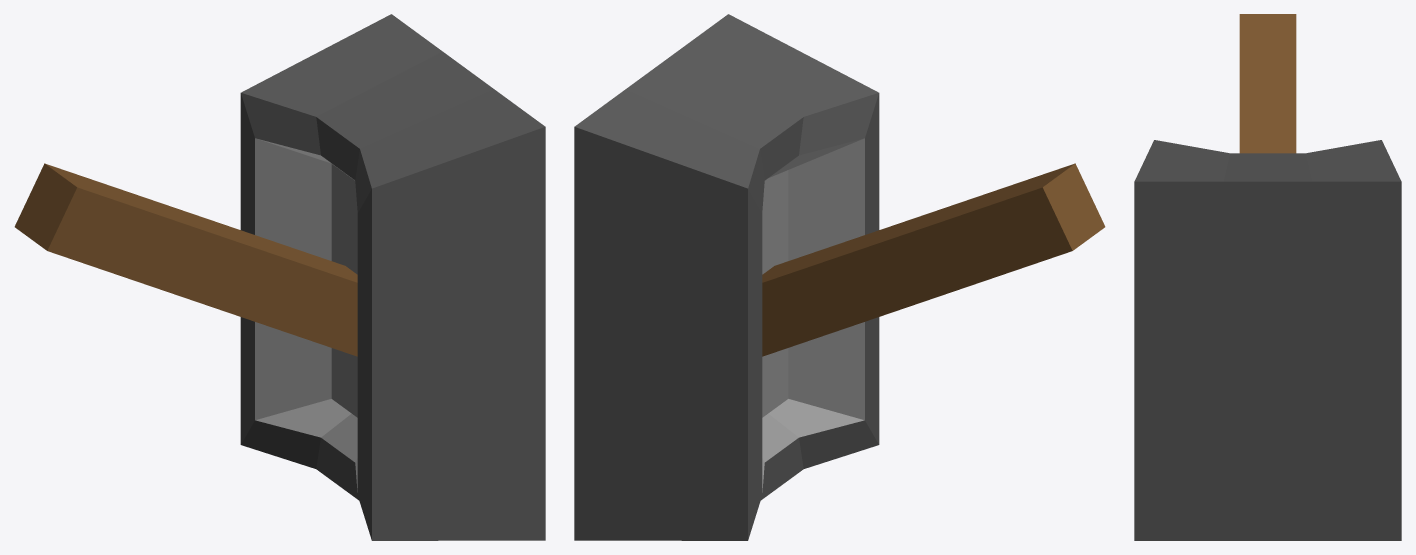
Rendered from lever.fbx.
3 views of the same model, side by side, from view 1: azimuth 30°, elevation 25°; view 2: azimuth 150°, elevation 25°; view 3: azimuth 270°, elevation 25° (orthographic). The views are drawn at different scales.
Visible parts, largest first — view 1: Cube.003, Cube.004; view 2: Cube.003, Cube.004; view 3: Cube.003, Cube.004.
Part boxes in pixels (x1,y1,x2,y2): Cube.003: (240,14,545,540); Cube.004: (14,163,357,356); Cube.003: (574,14,879,540); Cube.004: (762,163,1105,356); Cube.003: (1134,140,1401,540); Cube.004: (1239,14,1296,153).
Bounding box in the file's own units: 92.9 × 83.93 × 56.61.
